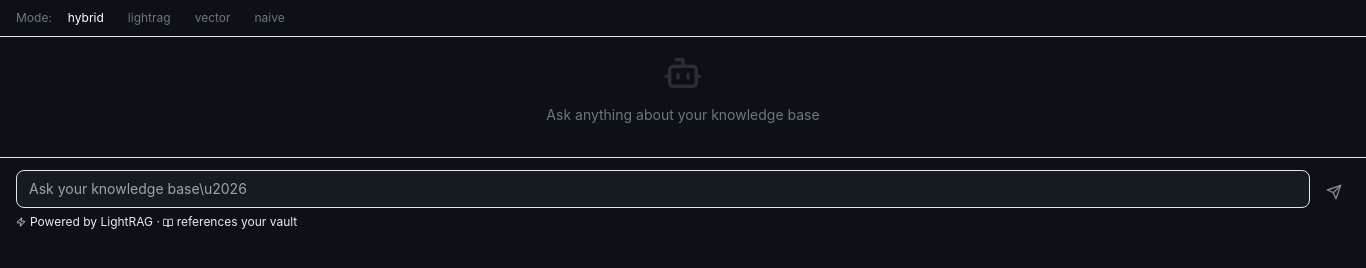
Test: AIChat (legacy fetch-based) — send › renders user message after sending
This screenshot has width=1366, height=268.
Type "What is EEG?" into the text box with placeholder "Ask your knowledge base\\u2026" at (663,189), box [16,170,1310,208]
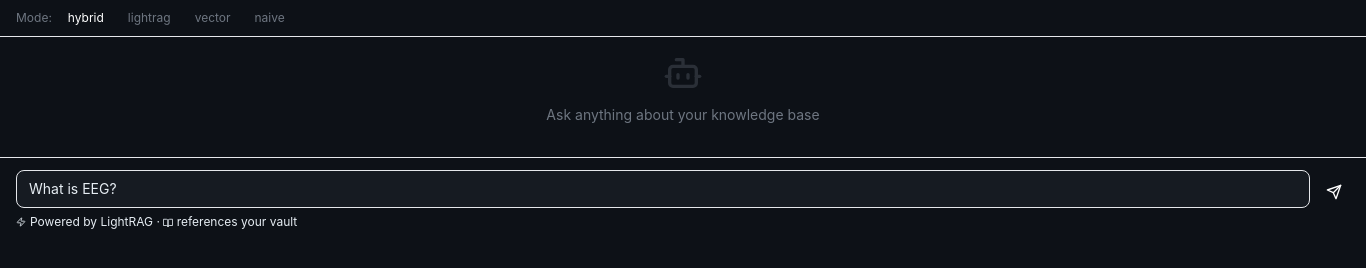
Press Enter in the text box with placeholder "Ask your knowledge base\\u2026", box [16,170,1310,208]
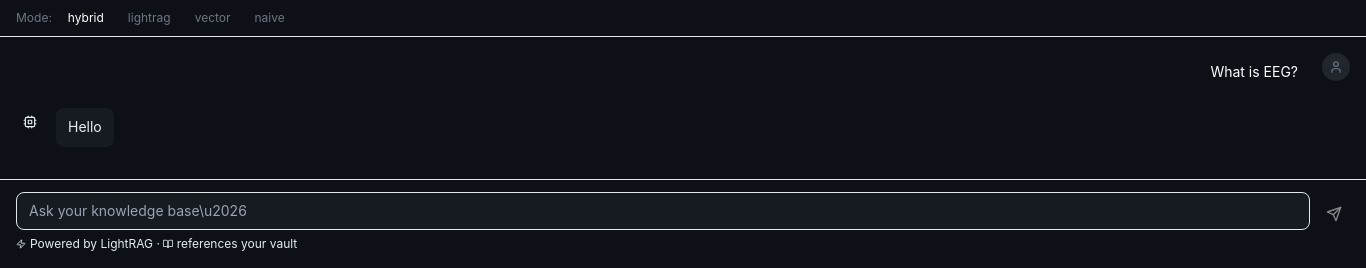
Expected: the text "What is EEG?" is shown, [1210,63,1298,80]
